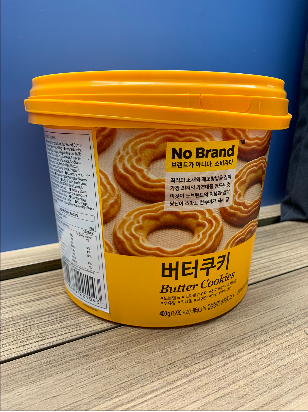Cookies_400-499g: (65, 128, 239, 311)
